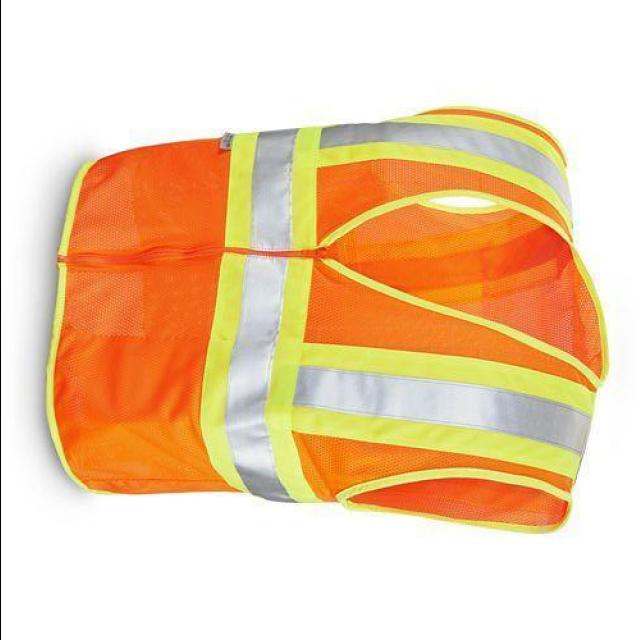helmet: (62, 100, 618, 538)
